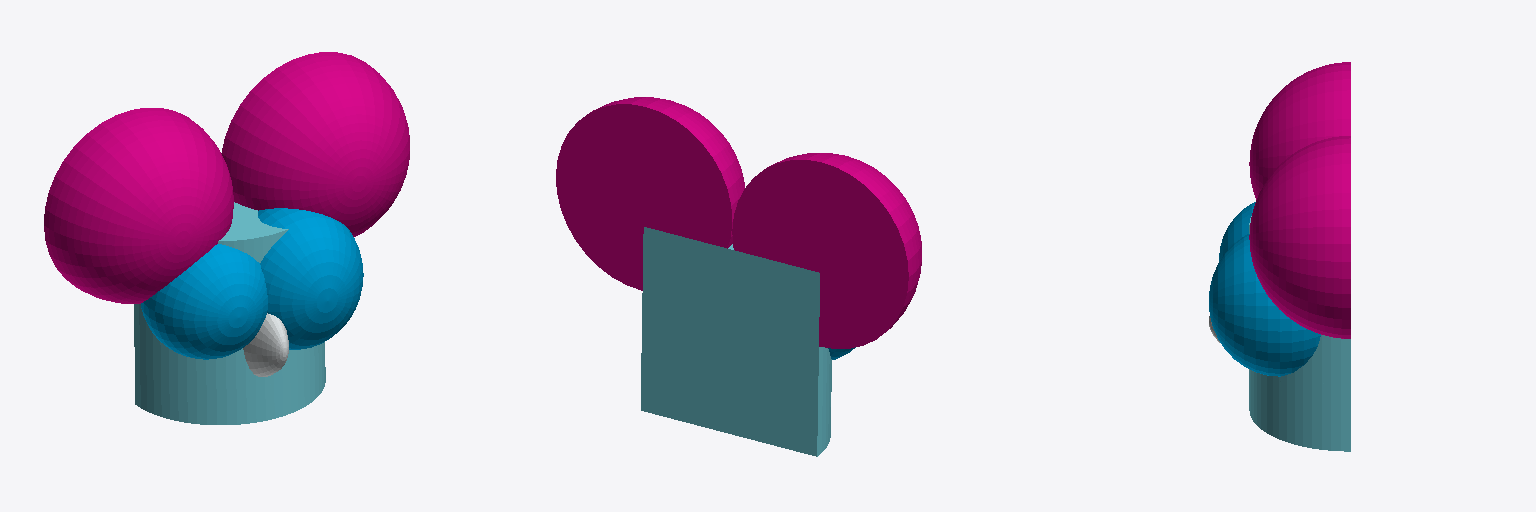
The model's file is tinker.obj.
3 views of the same model, side by side, from view 1: azimuth 30°, elevation 25°; view 2: azimuth 150°, elevation 25°; view 3: azimuth 270°, elevation 25° (orthographic).
Parts seen in each view (by area): view 1: obj_0; view 2: obj_0; view 3: obj_0.
Boxes of the visible parts, <box> form: obj_0: <box>44,52,409,424</box>; obj_0: <box>556,97,921,456</box>; obj_0: <box>1209,62,1350,451</box>.
Size of the model in its own units: 39.98 by 33.34 by 14.